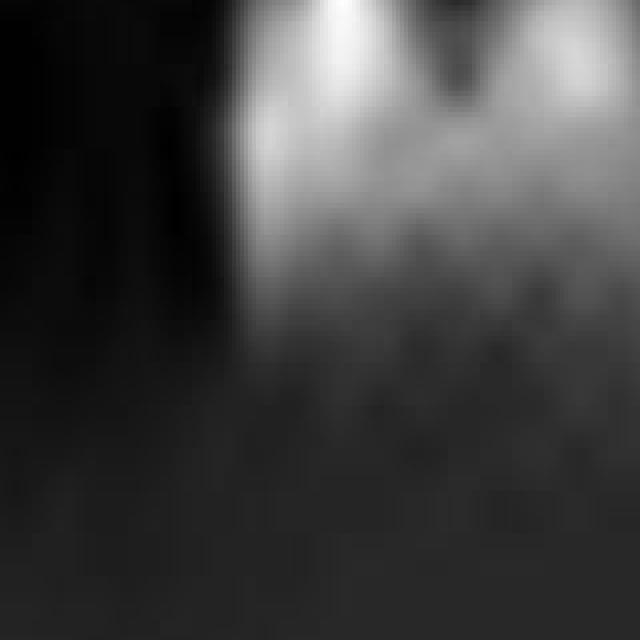person: (457, 1, 640, 433), (213, 1, 445, 321)
